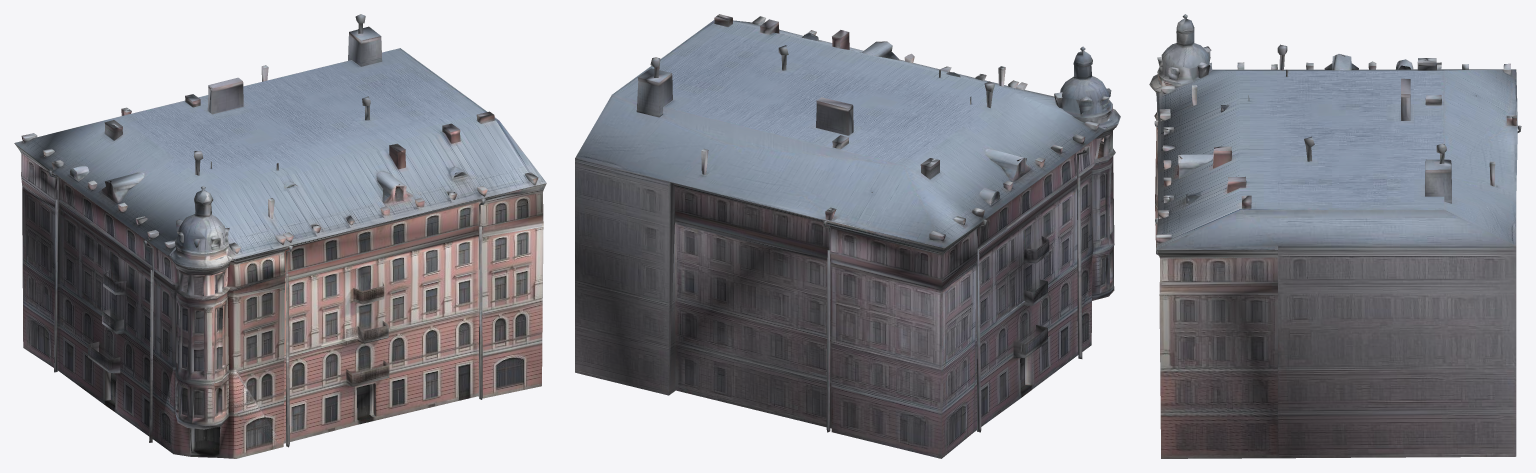
File: spb_r2.glb
3 views of the same model, side by side, from view 1: azimuth 30°, elevation 25°; view 2: azimuth 150°, elevation 25°; view 3: azimuth 270°, elevation 25° (orthographic). The views are drawn at different scales.
Parts seen in each view (by area): view 1: tripo_node_67243983; view 2: tripo_node_67243983; view 3: tripo_node_67243983.
Part boxes in pixels (x1,y1,x2,y2): tripo_node_67243983: (14,14,546,458); tripo_node_67243983: (575,14,1120,458); tripo_node_67243983: (1149,14,1521,458).
Bounding box in the file's own units: 0.9021 × 0.6753 × 0.7787.
1 material, 1 textured.
